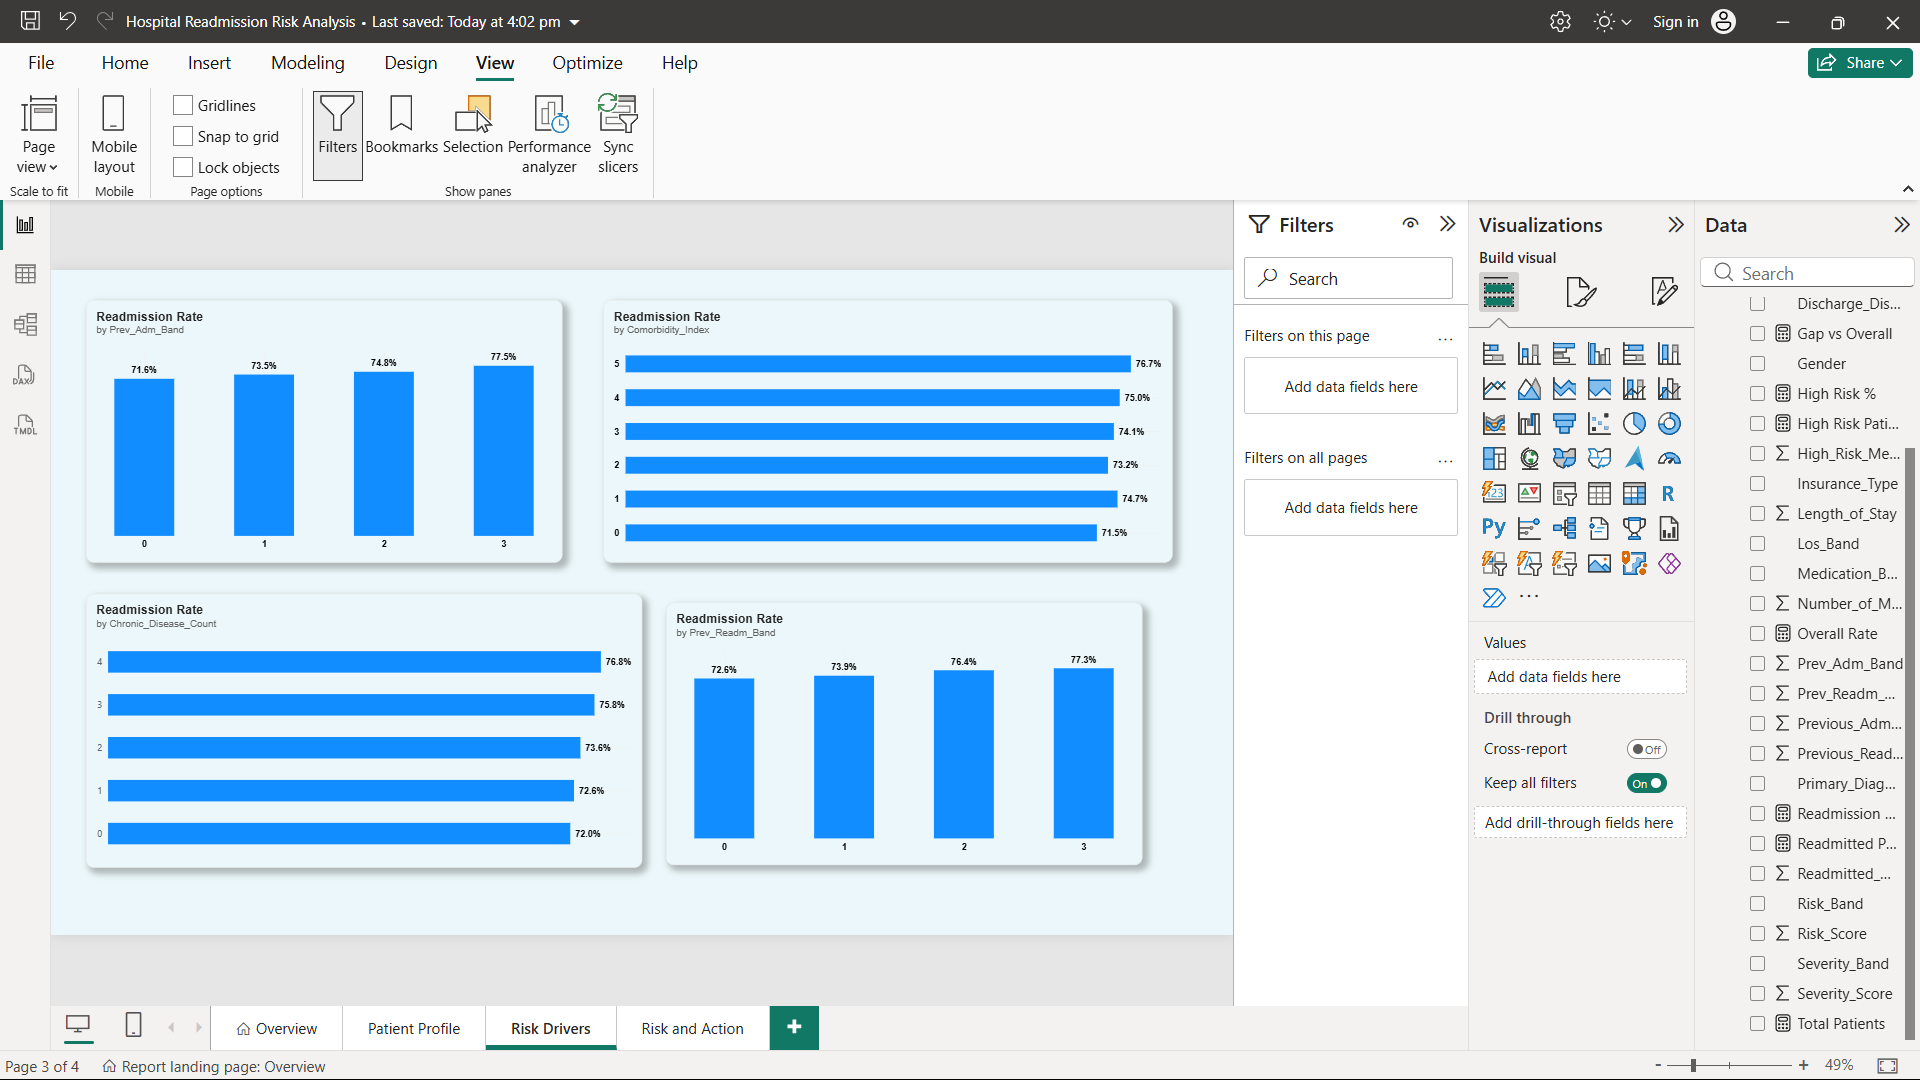

The dashboard page shown, as its layout file describes it:
{"tool":"powerbi","page":{"name":"Risk Drivers","canvas":[1920,1080],"ordinal":2},"visuals":[{"type":"clusteredColumnChart","fields":{"Y":["Patients.Readmission Rate"],"Category":["Patients.Prev_Adm_Band"]},"box":[56.8,48.7,773.4,426.3],"z":9000},{"type":"clusteredBarChart","fields":{"Category":["Patients.Chronic_Disease_Count"],"Y":["Patients.Readmission Rate"]},"box":[56.8,525.8,903.4,444.6],"z":11000},{"type":"clusteredColumnChart","fields":{"Y":["Patients.Readmission Rate"],"Category":["Patients.Prev_Readm_Band"]},"box":[998.8,540,773.4,426.3],"z":11001},{"type":"clusteredBarChart","fields":{"Category":["Patients.Comorbidity_Index"],"Y":["Patients.Readmission Rate"]},"box":[897.3,48.7,923.7,426.3],"z":11002}]}

Visuals, with their boxes on the page's 1920x1080 design canvas (x1, y1, x2, y2). These are canvas units, not pixel positions in the 1920x1080 screenshot, which may show the page scaled, cropped or inside an application window:
clusteredColumnChart - Patients.Readmission Rate x Patients.Prev_Adm_Band: crop(57, 49, 830, 475)
clusteredBarChart - Patients.Chronic_Disease_Count x Patients.Readmission Rate: crop(57, 526, 960, 970)
clusteredColumnChart - Patients.Readmission Rate x Patients.Prev_Readm_Band: crop(999, 540, 1772, 966)
clusteredBarChart - Patients.Comorbidity_Index x Patients.Readmission Rate: crop(897, 49, 1821, 475)
